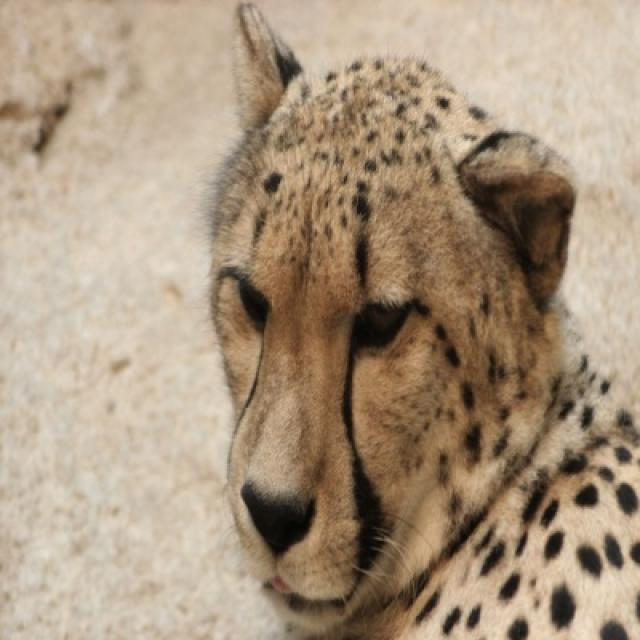Cheetah: (202, 9, 638, 638)
